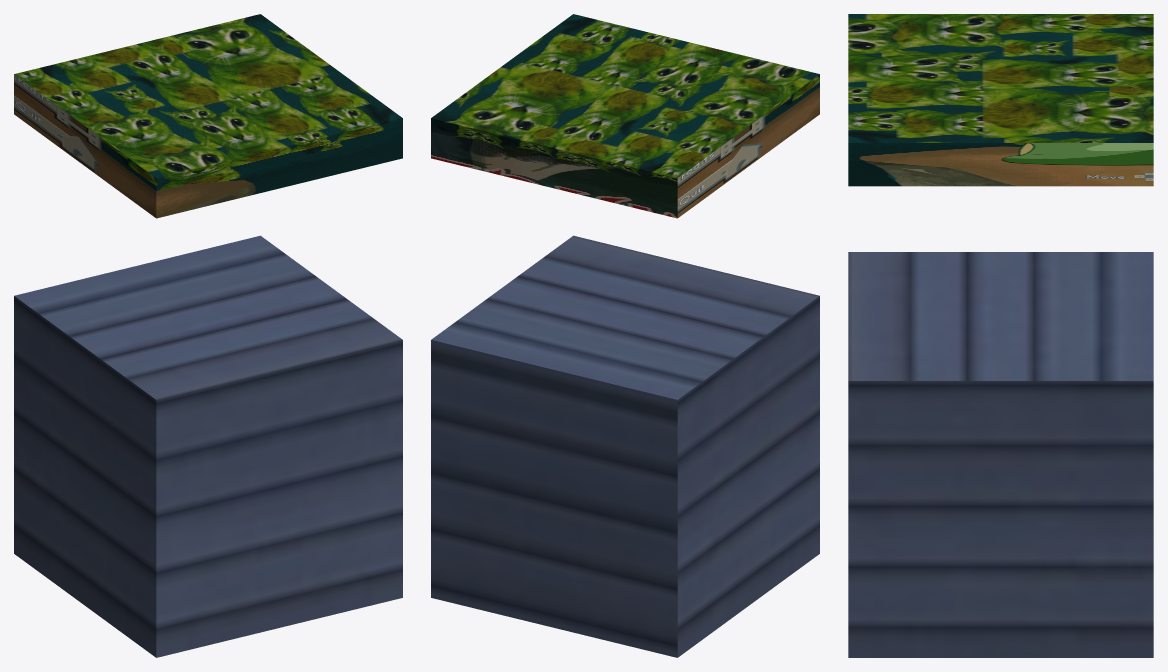
Rendered from housemattest2.fbx.
3 views of the same model, side by side, from view 1: azimuth 30°, elevation 25°; view 2: azimuth 150°, elevation 25°; view 3: azimuth 270°, elevation 25° (orthographic). The views are drawn at different scales.
Visible parts, largest first — view 1: pCube1, pCube2; view 2: pCube1, pCube2; view 3: pCube1, pCube2.
Part boxes in pixels (x1=…): pCube1: x1=14, y1=235, x2=402, y2=657; pCube2: x1=14, y1=14, x2=402, y2=218; pCube1: x1=431, y1=235, x2=819, y2=657; pCube2: x1=431, y1=14, x2=819, y2=218; pCube1: x1=848, y1=252, x2=1153, y2=657; pCube2: x1=848, y1=14, x2=1153, y2=186.
Bounding box in the file's own units: 1 × 1.86 × 1.
Materials: 2 (2 with a texture image).
